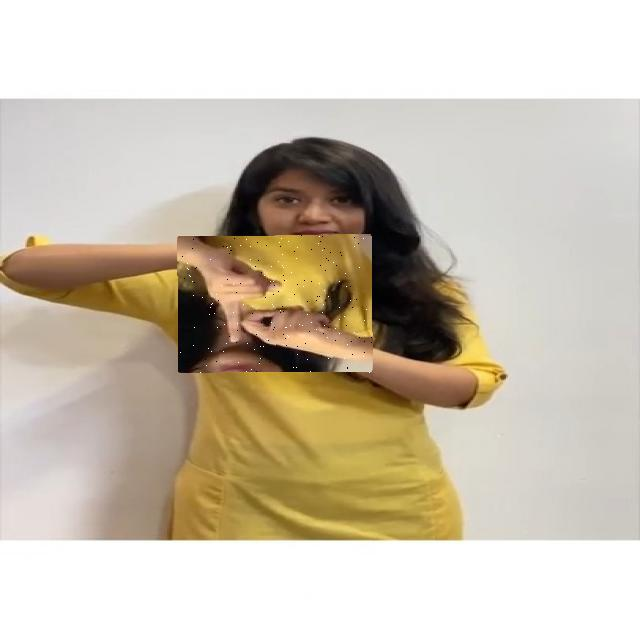K: (178, 235, 372, 373)
